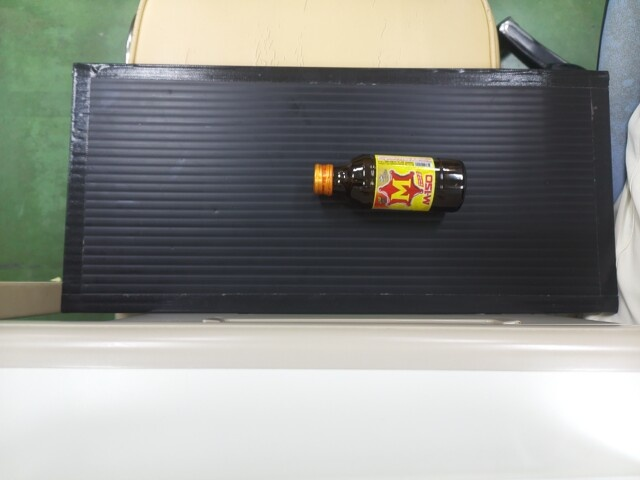glass_bottle: (310, 153, 466, 210)
